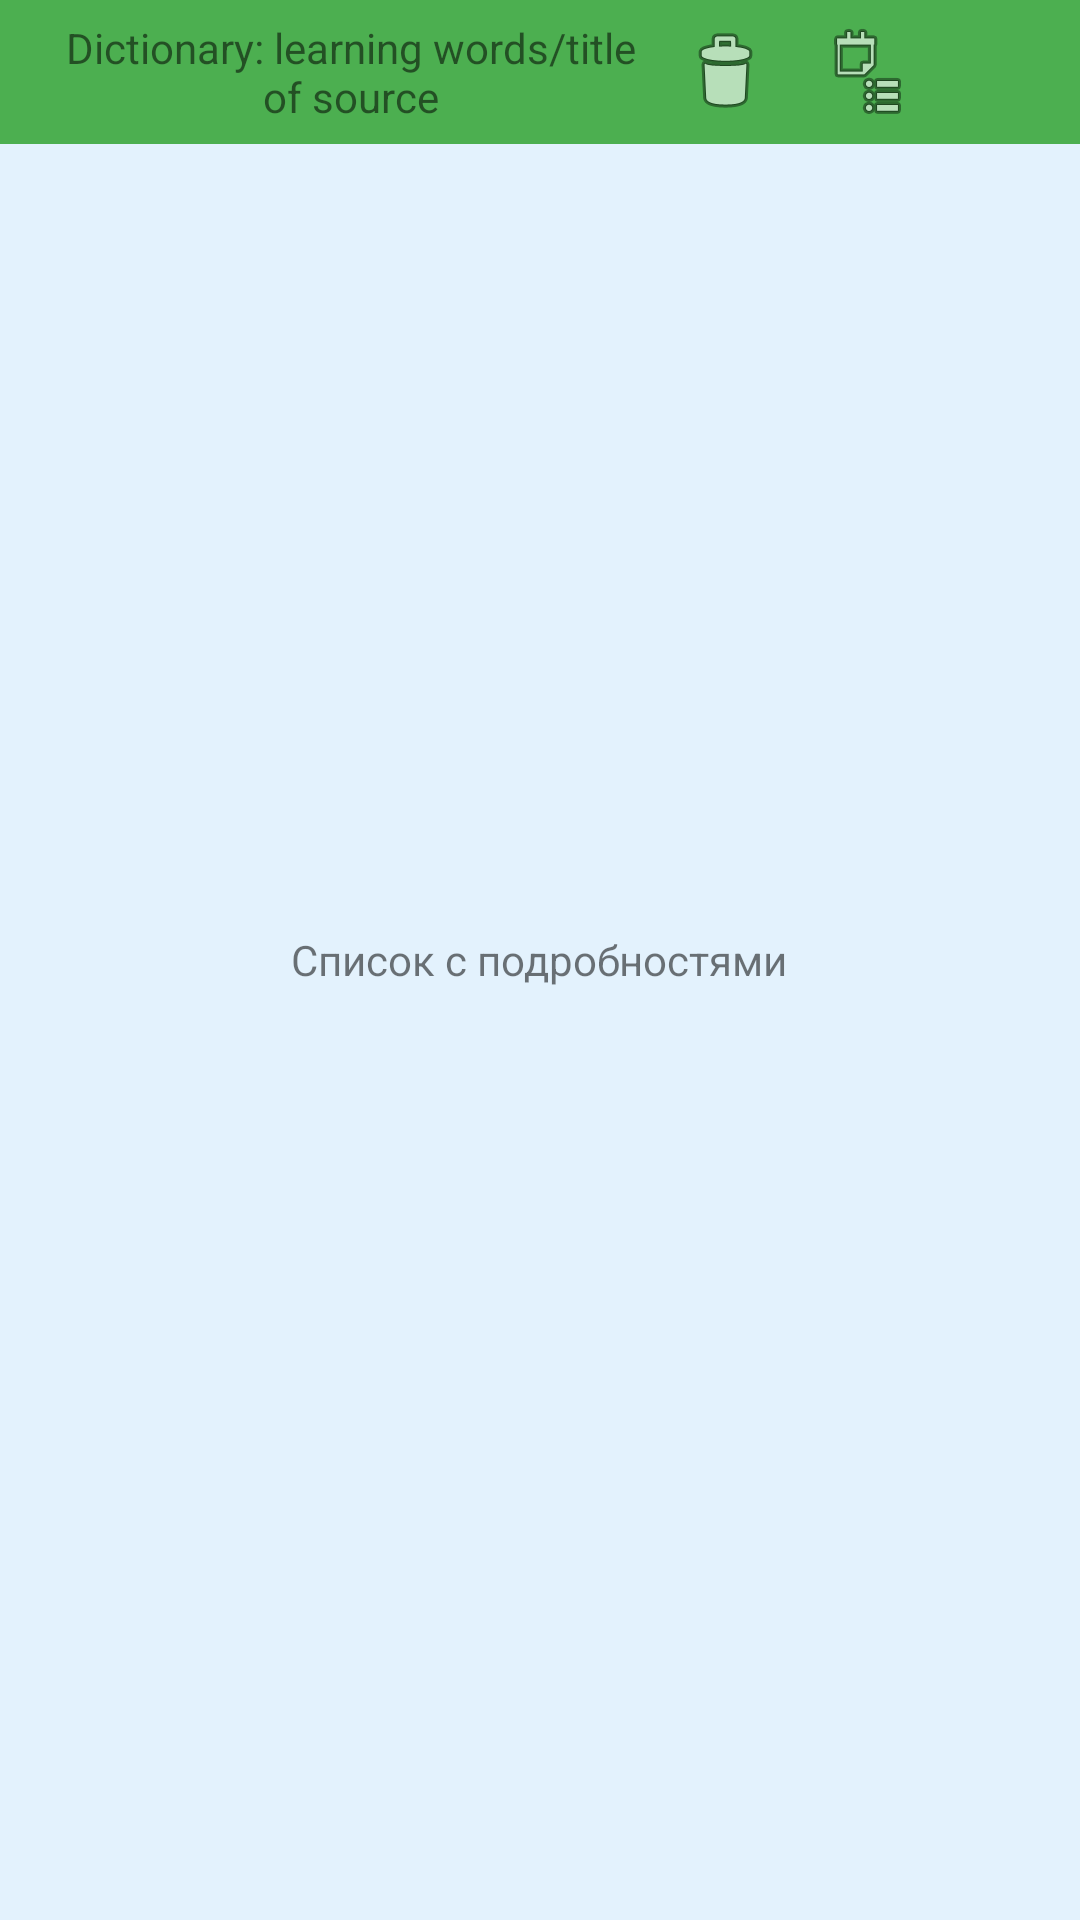

Point at icon controls on the screen. Image size 1080*1920, points as (x,y).
agenda: (867,71)
delete: (725,70)
